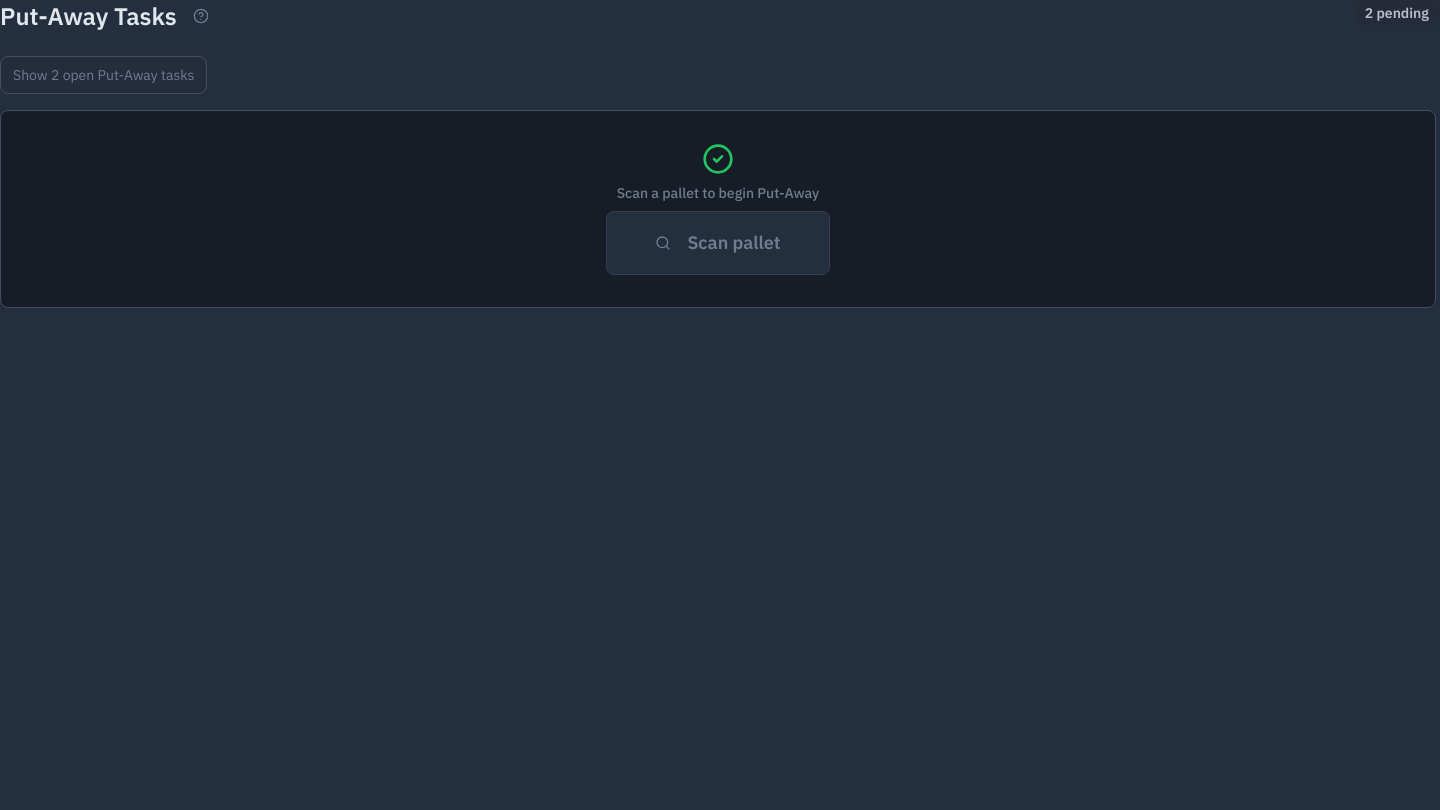
Scenario: PutawayTasksPage scan-first flow › opens the pallet scan dialog from the idle scan button
Click the button "Scan pallet". click: (718, 243)
box: [606, 211, 830, 275]
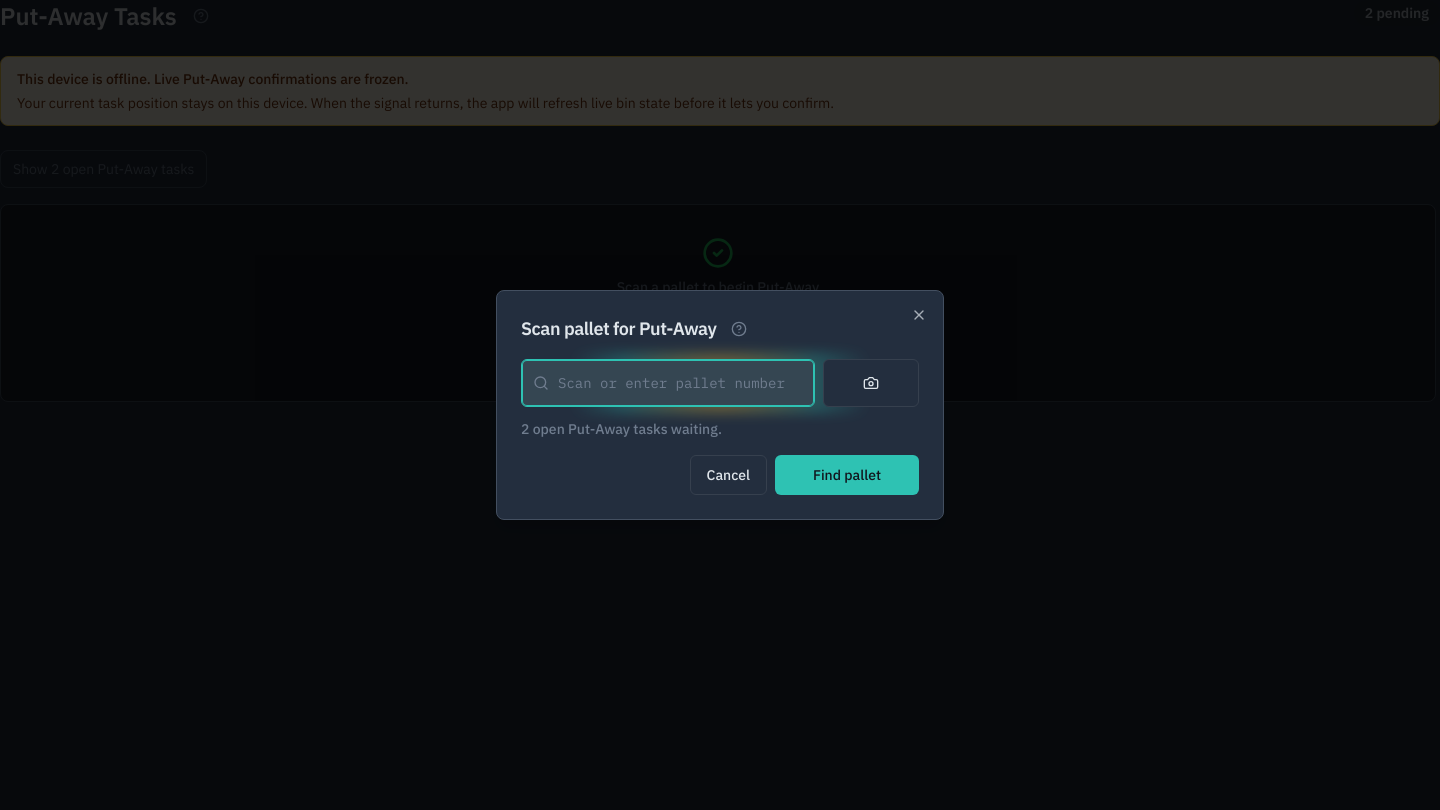
Now the dialog "Scan pallet for Put-Away" is shown, box [496, 290, 944, 520]
Now the field labelled "pallet number" is shown, box [521, 359, 815, 407]
